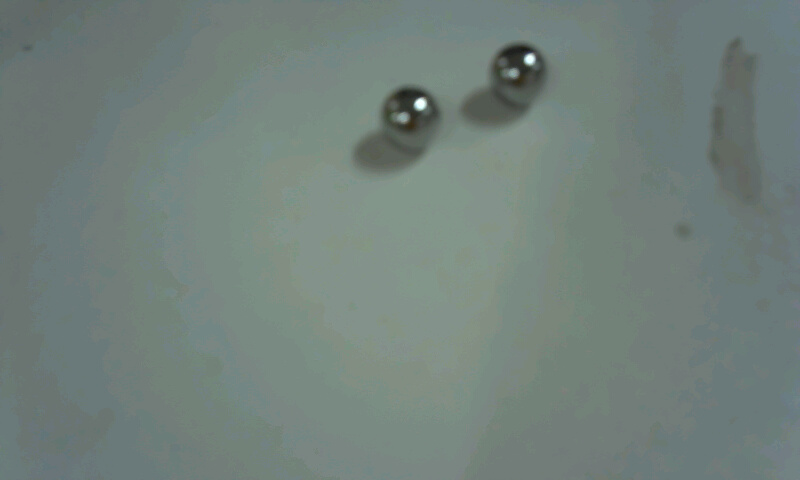steelball: (482, 36, 572, 124), (368, 72, 454, 159)
